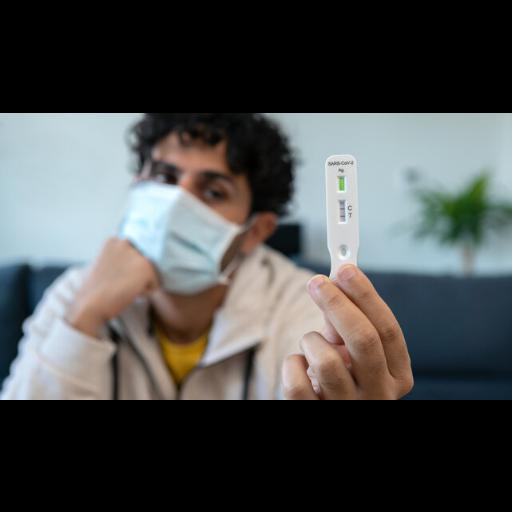Pos: (324, 155, 360, 275)
